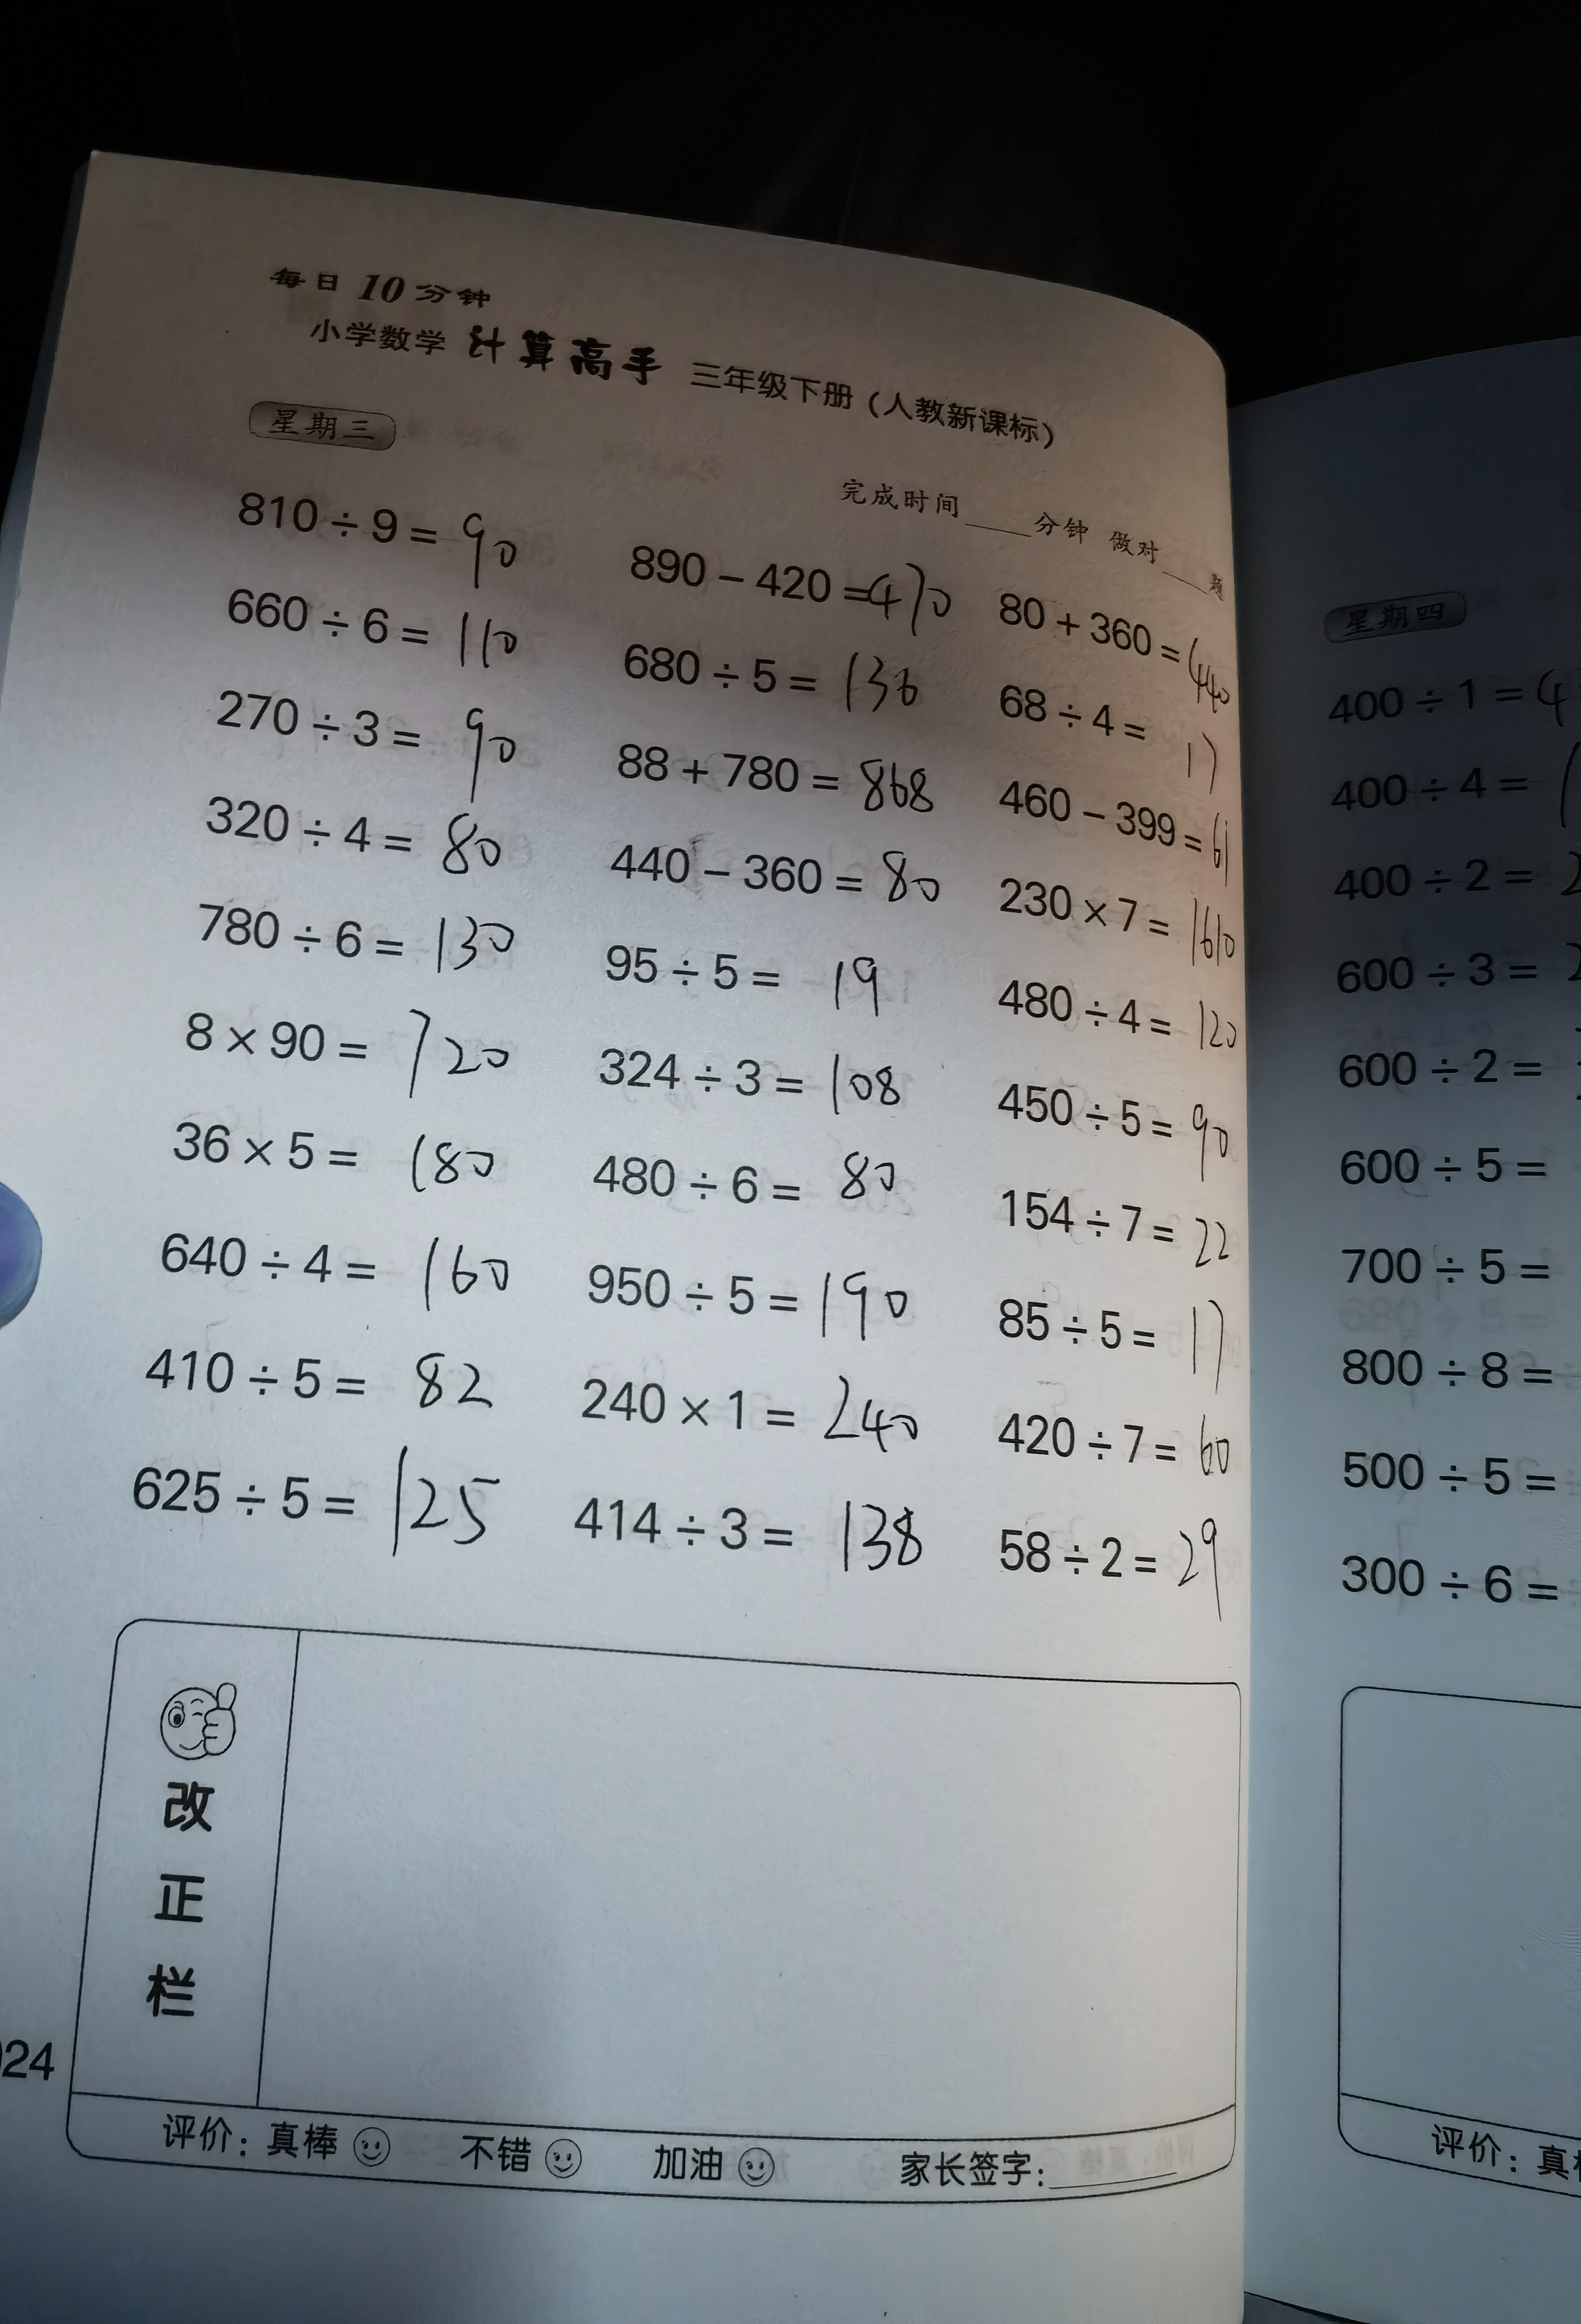equation: (561, 1466, 937, 1602), (85, 1443, 501, 1565), (187, 671, 551, 806), (1000, 531, 1249, 713), (194, 787, 551, 900), (146, 1212, 528, 1316), (612, 533, 976, 633), (231, 445, 533, 559), (129, 1343, 508, 1433), (175, 997, 513, 1098), (565, 1361, 921, 1456), (603, 626, 981, 715), (616, 829, 976, 921), (162, 1112, 524, 1202), (988, 861, 1249, 985), (191, 579, 531, 672), (581, 1140, 923, 1232), (611, 731, 946, 821), (565, 1032, 916, 1115), (983, 1285, 1240, 1392), (203, 891, 517, 979), (972, 1179, 1237, 1281), (999, 1509, 1240, 1618), (981, 972, 1239, 1073), (978, 1073, 1235, 1172), (589, 1262, 918, 1338), (993, 683, 1219, 791), (979, 1405, 1256, 1489), (582, 942, 903, 1015), (999, 780, 1235, 877)
